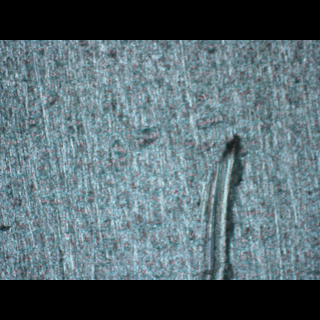d: (194, 133, 245, 279)
